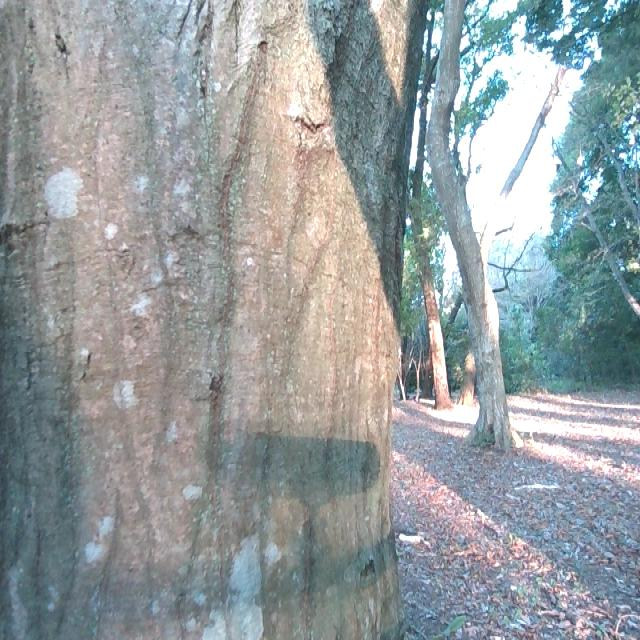tree: (0, 0, 434, 639), (425, 0, 532, 456), (409, 148, 457, 404)
